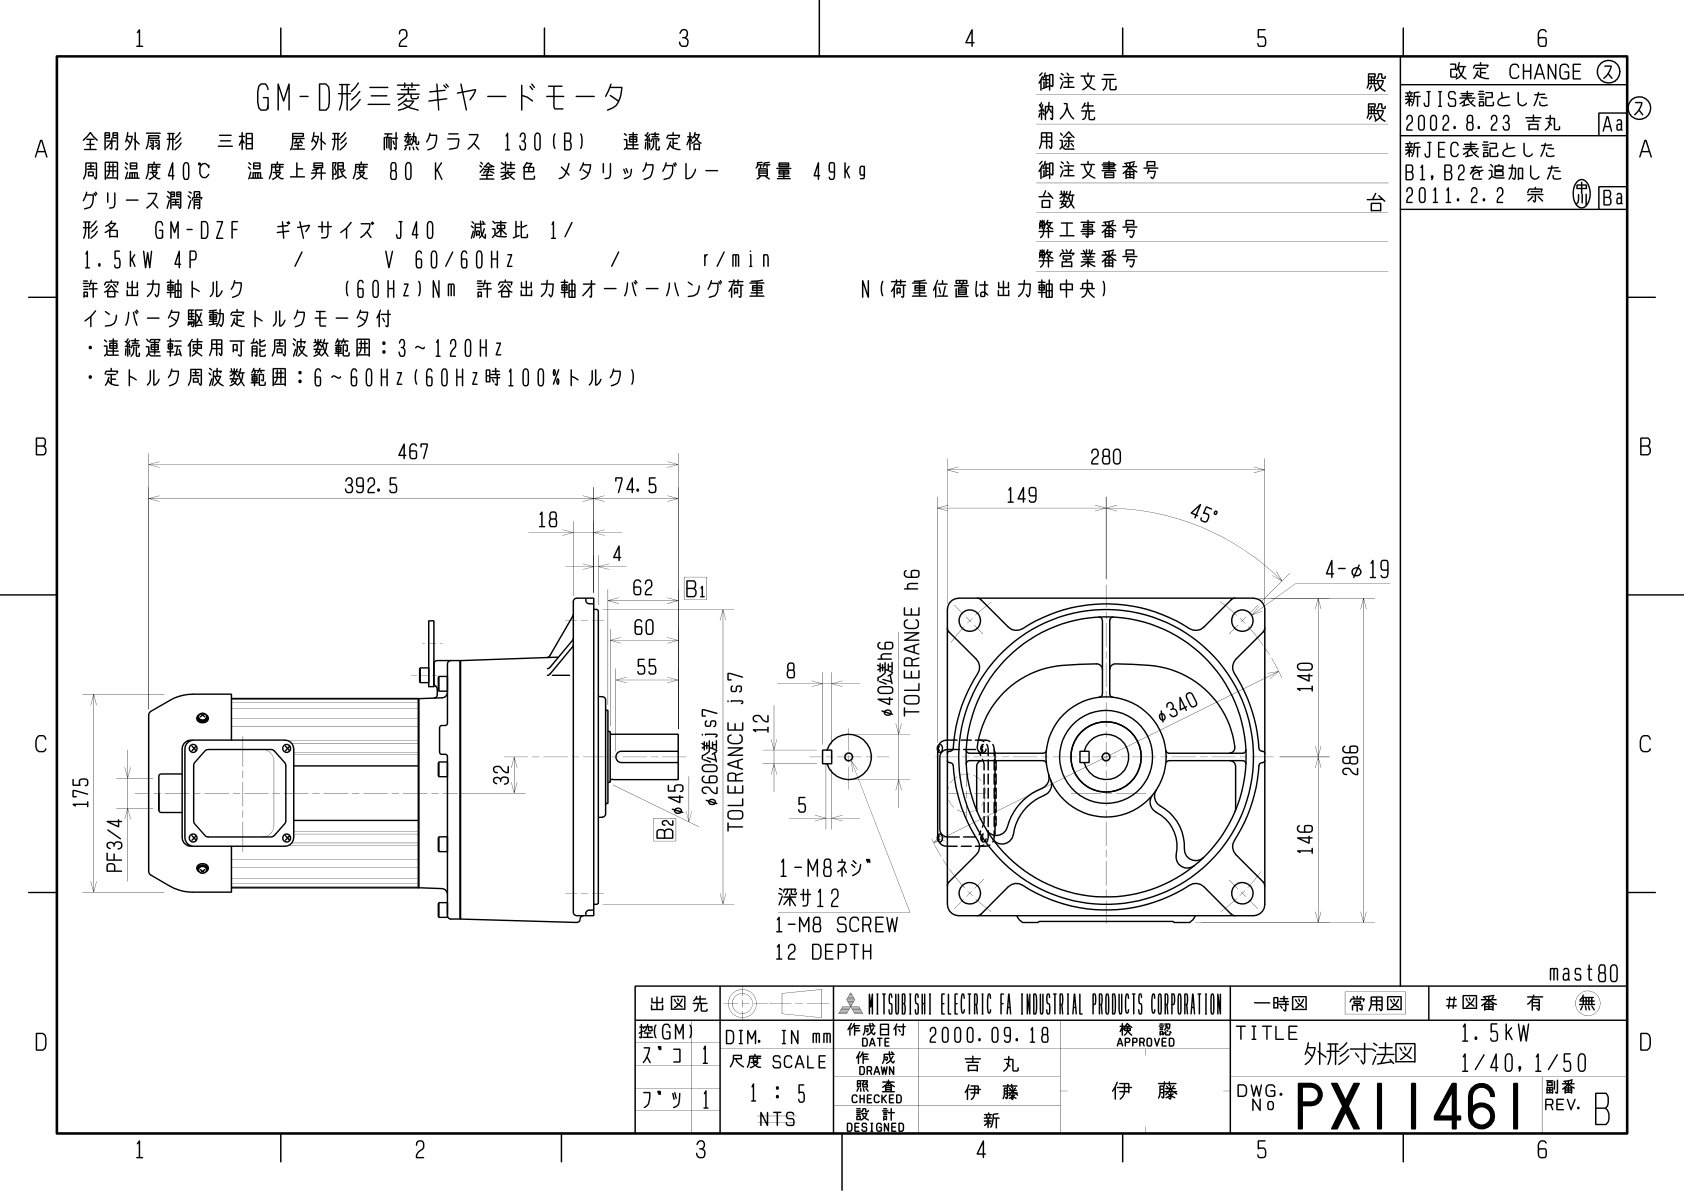GM_D_インバータ屋外_三相_フランジ: (61, 398, 1397, 956)
